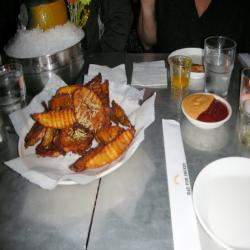fries: (29, 77, 145, 175)
ketchup: (195, 98, 234, 129)
